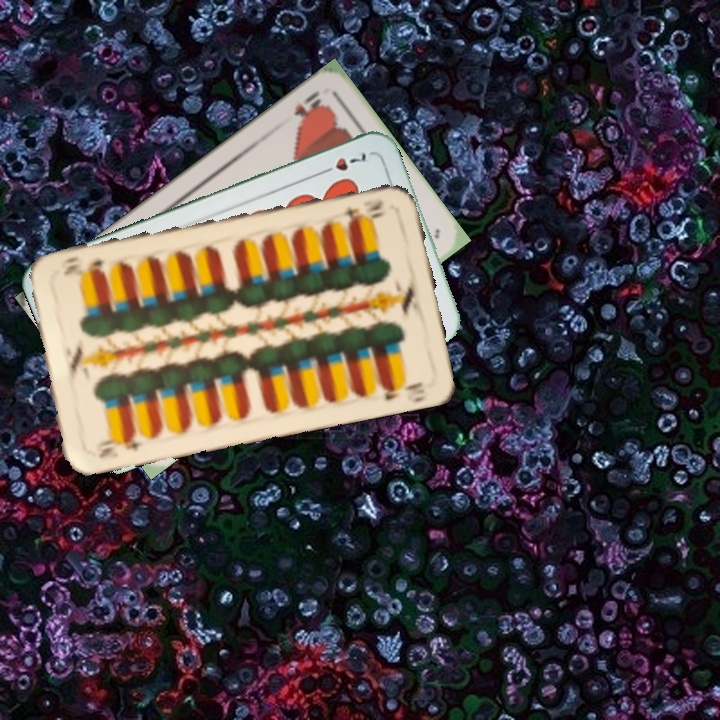E10: (93, 430, 144, 461), (338, 195, 386, 225)
H7: (315, 149, 369, 178)
HO: (289, 86, 327, 127)
